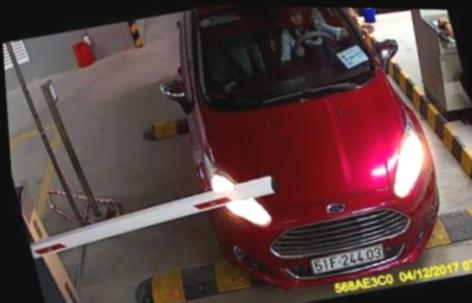License_Plate: (305, 235, 388, 276)
